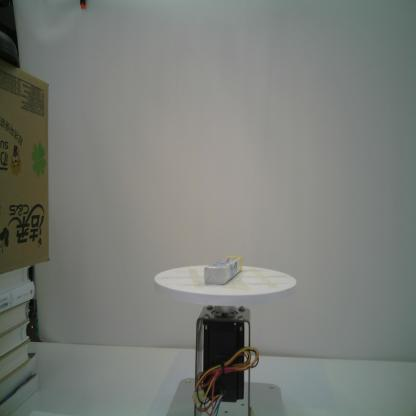Candy: (204, 254, 242, 286)
